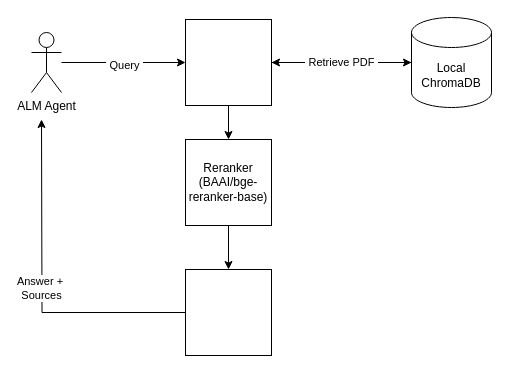
Some shapes in this 509 by 373 pixel diagram are drawn without their labels. The shapes that lost their labels are listed below. From the top down, each one's box as (x1, y1, x2, y2) in pixels, then its label:
(184, 18, 272, 106): Retriever (BAAI/bge-m3)
(184, 268, 272, 356): LLM (Mistral 7B)
